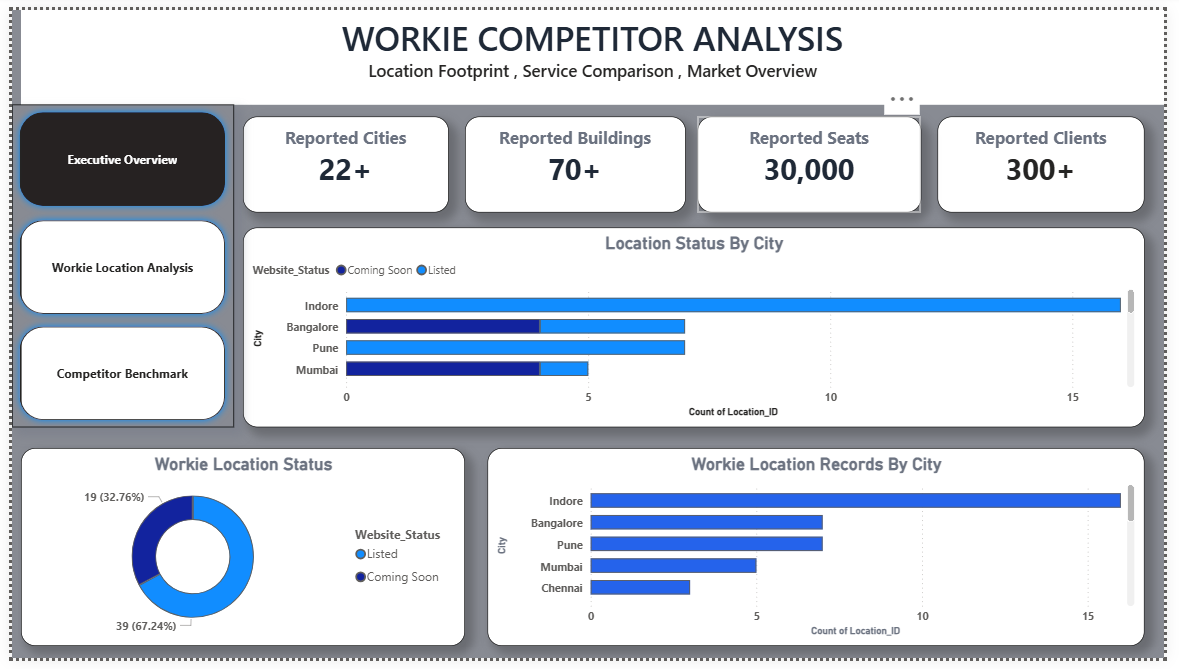

This screenshot's page, from the dashboard's own definition file:
{"tool":"powerbi","page":{"name":"Executive Overview","canvas":[1280,720],"ordinal":0},"visuals":[{"type":"textbox","box":[10,0,1270,105],"z":0},{"type":"textbox","box":[256.7,118.3,228.3,106.7],"z":1000},{"type":"textbox","box":[503.3,118.3,245,106.7],"z":2000},{"type":"textbox","box":[1028.3,118.3,230,106.7],"z":3000},{"type":"textbox","box":[761.7,118.3,248.3,106.7],"z":4000},{"type":"clusteredBarChart","title":"Workie Location Records By City","fields":{"Category":["Workie_Competitor_Analysis_Master_V2_Clean.City"],"Y":["CountNonNull(Workie_Competitor_Analysis_Master_V2_Clean.Location_ID)"]},"box":[528.3,486.7,730,220],"z":5000},{"type":"donutChart","title":"Workie Location Status","fields":{"Category":["Workie_Competitor_Analysis_Master_V2_Clean.Website_Status"],"Y":["CountNonNull(Workie_Competitor_Analysis_Master_V2_Clean.Location_ID)"]},"box":[10,486.7,493.3,220],"z":6000},{"type":"barChart","title":"Location Status By City","fields":{"Category":["Workie_Competitor_Analysis_Master_V2_Clean.City"],"Y":["CountNonNull(Workie_Competitor_Analysis_Master_V2_Clean.Location_ID)"],"Series":["Workie_Competitor_Analysis_Master_V2_Clean.Website_Status"]},"box":[256.7,241.7,1001.7,221.7],"z":7000},{"type":"pageNavigator","box":[0,105,246.7,358.3],"z":9001}]}

Visuals, with their boxes in screenshot pixels (x1, y1, x2, y2), scaled from the page's 1280x720 canvas onto the 1179x669 screenshot:
textbox: Rect(9, 0, 1178, 98)
textbox: Rect(236, 110, 447, 209)
textbox: Rect(464, 110, 689, 209)
textbox: Rect(947, 110, 1159, 209)
textbox: Rect(702, 110, 930, 209)
"Workie Location Records By City" clusteredBarChart: Rect(487, 452, 1159, 657)
"Workie Location Status" donutChart: Rect(9, 452, 464, 657)
"Location Status By City" barChart: Rect(236, 225, 1159, 431)
pageNavigator: Rect(0, 98, 227, 430)
